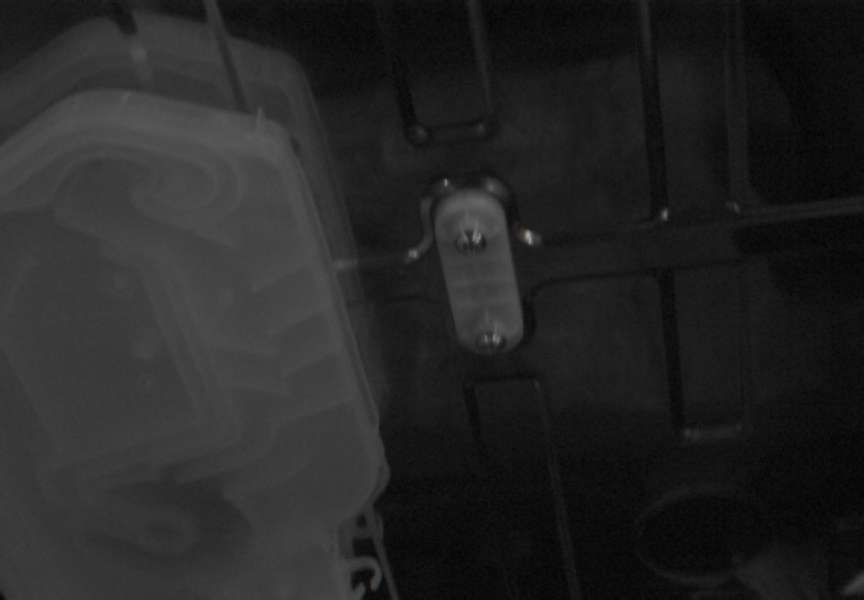screw: (454, 228, 487, 255), (475, 329, 507, 353)
